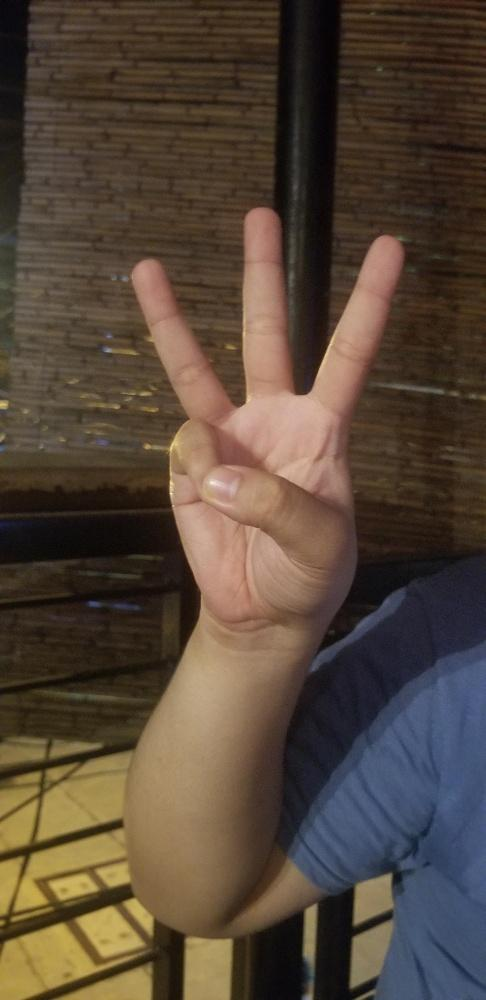w: (129, 207, 405, 612)
